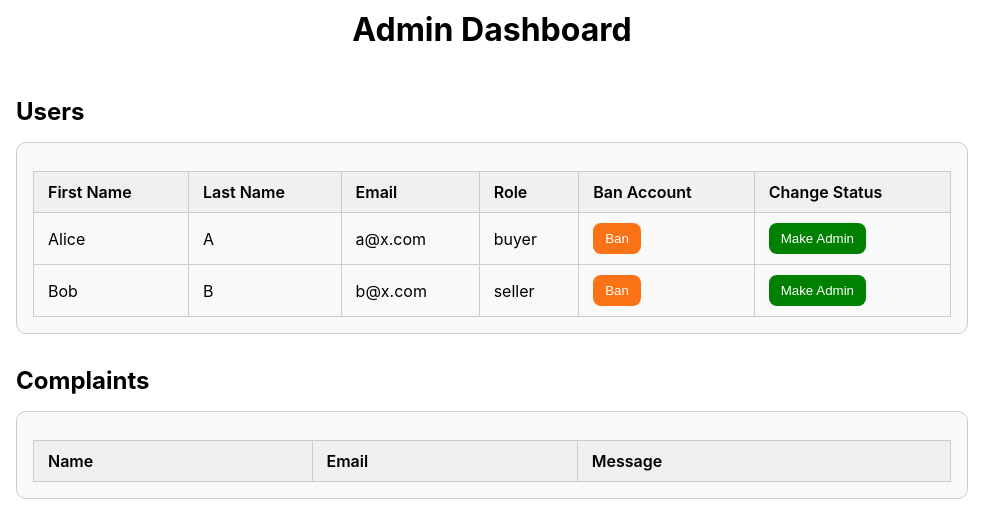
Test: Admin Component › Given Ban clicked, when banUser succeeds, then that row is removed
Expected: the text "Alice" is shown, [34, 212, 188, 264]
What coordinates should you click on to do the following:
click the button "Ban" in the row of "Alice"
I would click on:
 (617, 238)
Its box is [593, 223, 641, 254].
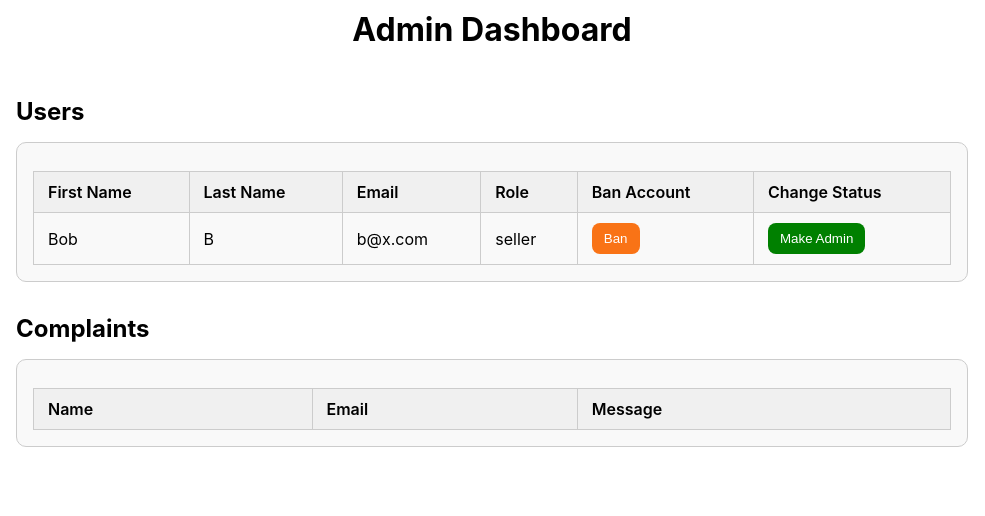
Expected: the text "Alice" is gone
